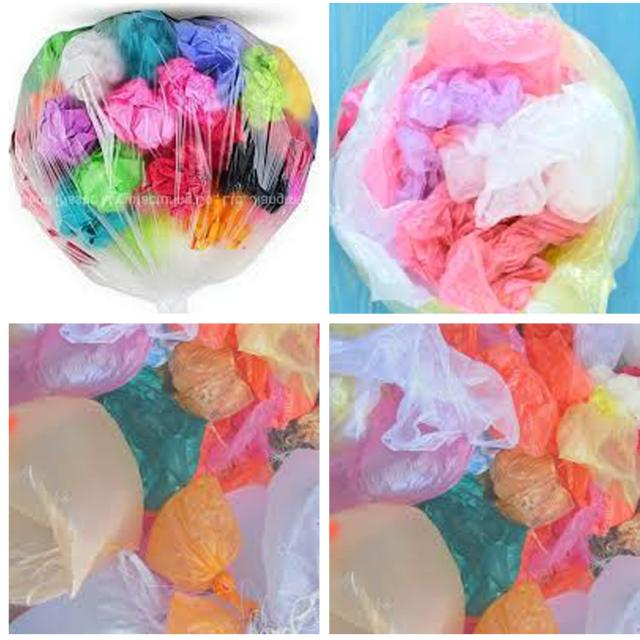plastik: (331, 5, 638, 312), (10, 12, 317, 299), (9, 396, 141, 606), (329, 324, 519, 451), (440, 324, 591, 457), (331, 385, 472, 513), (329, 506, 464, 634), (518, 460, 637, 599), (418, 473, 526, 617), (98, 367, 206, 510), (196, 352, 304, 493), (10, 550, 171, 634), (145, 475, 239, 603), (254, 451, 319, 634), (557, 399, 638, 535), (32, 325, 150, 399), (237, 324, 319, 406), (169, 342, 253, 421), (490, 451, 573, 528), (575, 324, 640, 419), (227, 487, 268, 601), (474, 580, 559, 634), (586, 557, 640, 634), (167, 591, 247, 634)
